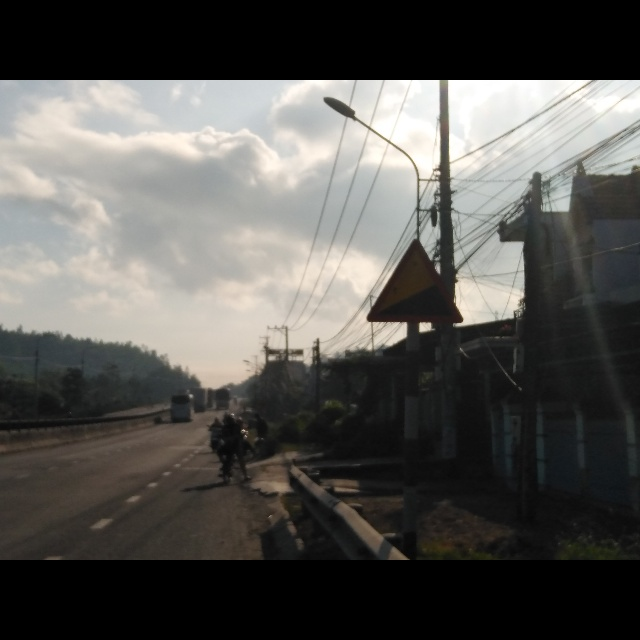Dốc lên nguy hiểm: (366, 235, 466, 323)
